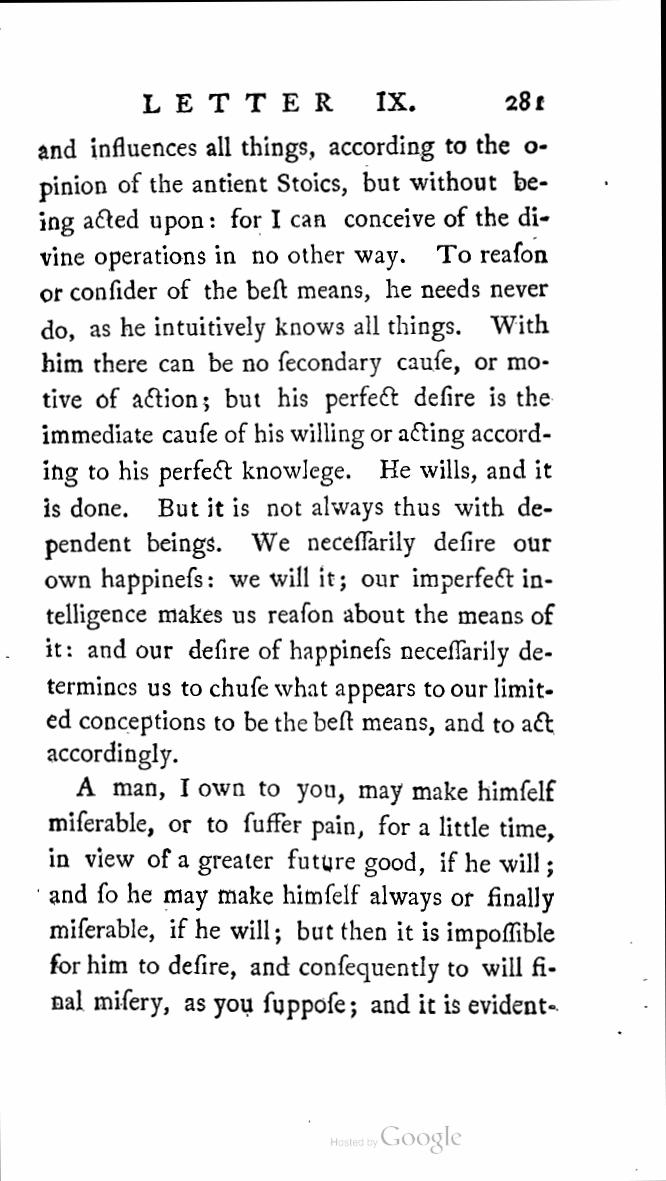bottom_p: (35, 128, 560, 772)
header: (140, 80, 420, 118)
page_num: (503, 85, 548, 118)
top_p: (45, 773, 562, 1025)
